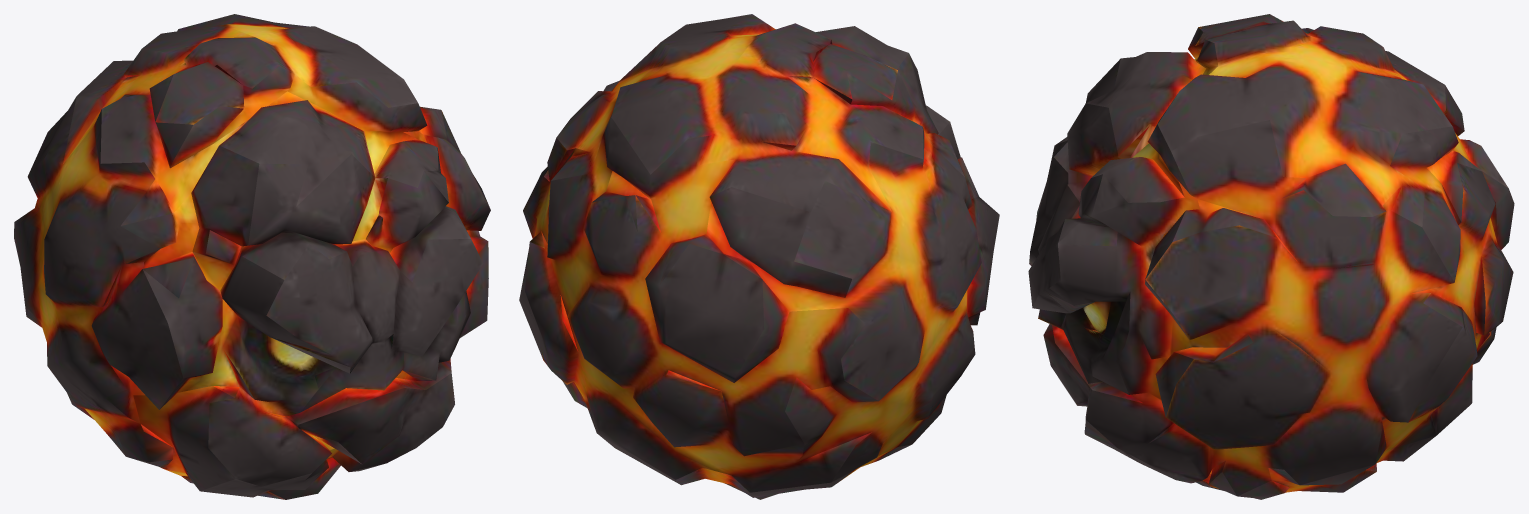
Rendered from m_boule_magma.glb.
The picture shows the model from 3 angles, left to right: view 1: azimuth 30°, elevation 25°; view 2: azimuth 150°, elevation 25°; view 3: azimuth 270°, elevation 25°; orthographic projection.
Visible parts, largest first — view 1: monstre; view 2: monstre; view 3: monstre.
Boxes of the visible parts, x1,y1,x2,y2 form: monstre: (14,14,490,499); monstre: (519,14,999,499); monstre: (1028,14,1514,499).
Bounding box in the file's own units: 0.9548 × 1 × 0.9824.
1 material, 1 textured.
